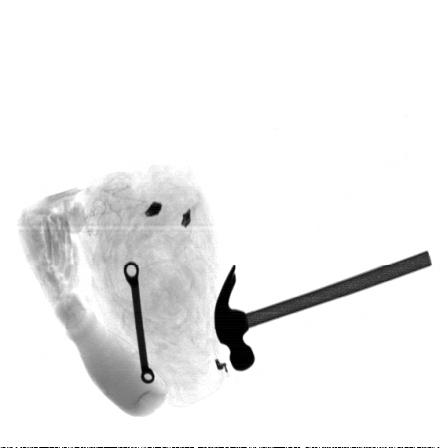Hammer: (215, 250, 432, 371)
Wrench: (124, 260, 154, 384)
